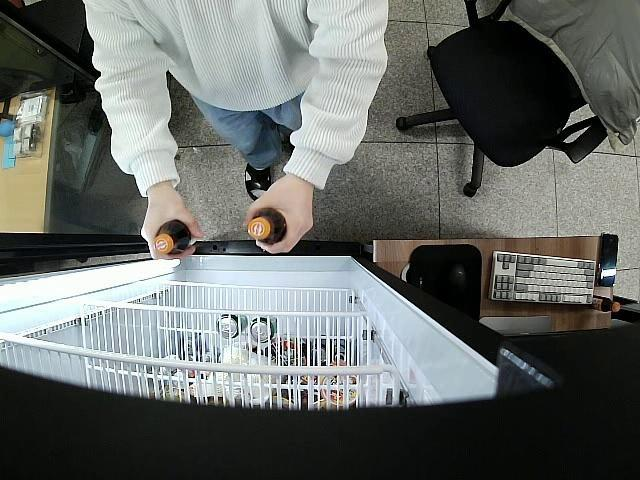17_vita500: (248, 209, 286, 246), (154, 219, 190, 256)
